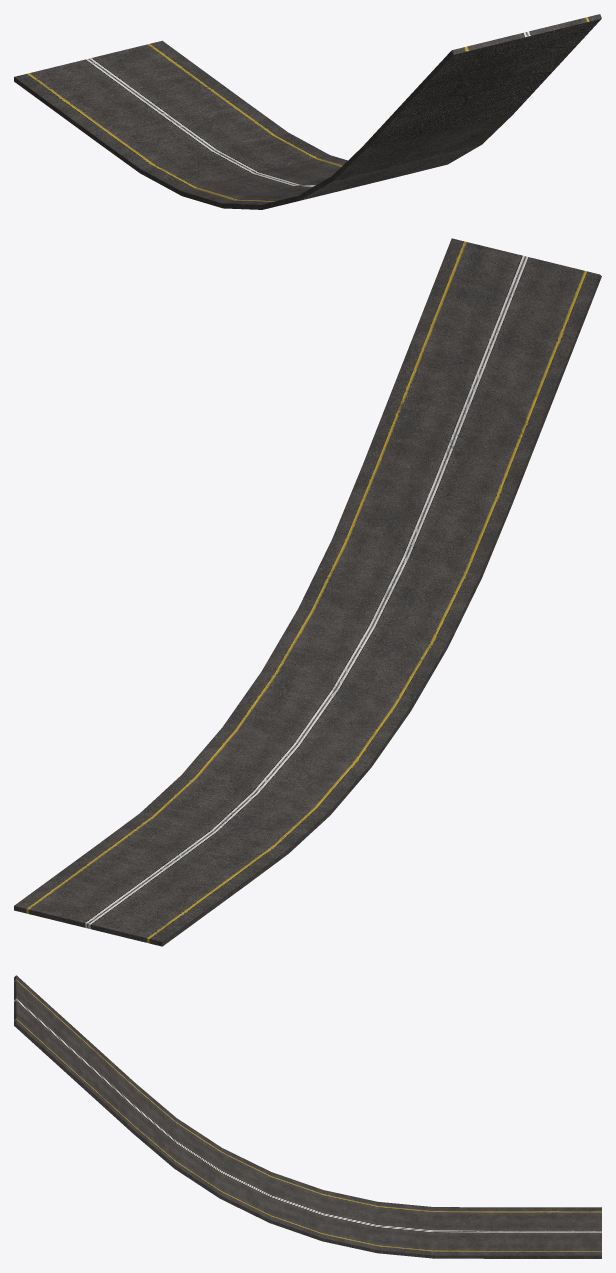
File: Road_04.fbx
3 views of the same model, one above another, from view 1: azimuth 30°, elevation 25°; view 2: azimuth 150°, elevation 25°; view 3: azimuth 270°, elevation 25° (orthographic). The views are drawn at different scales.
Parts seen in each view (by area): view 1: Road_04; view 2: Road_04; view 3: Road_04.
Boxes of the visible parts, x1=… form: Road_04: x1=14, y1=14, x2=601, y2=209; Road_04: x1=14, y1=238, x2=601, y2=946; Road_04: x1=14, y1=975, x2=601, y2=1258.
Size of the model in its own units: 999 by 2263 by 5126.
